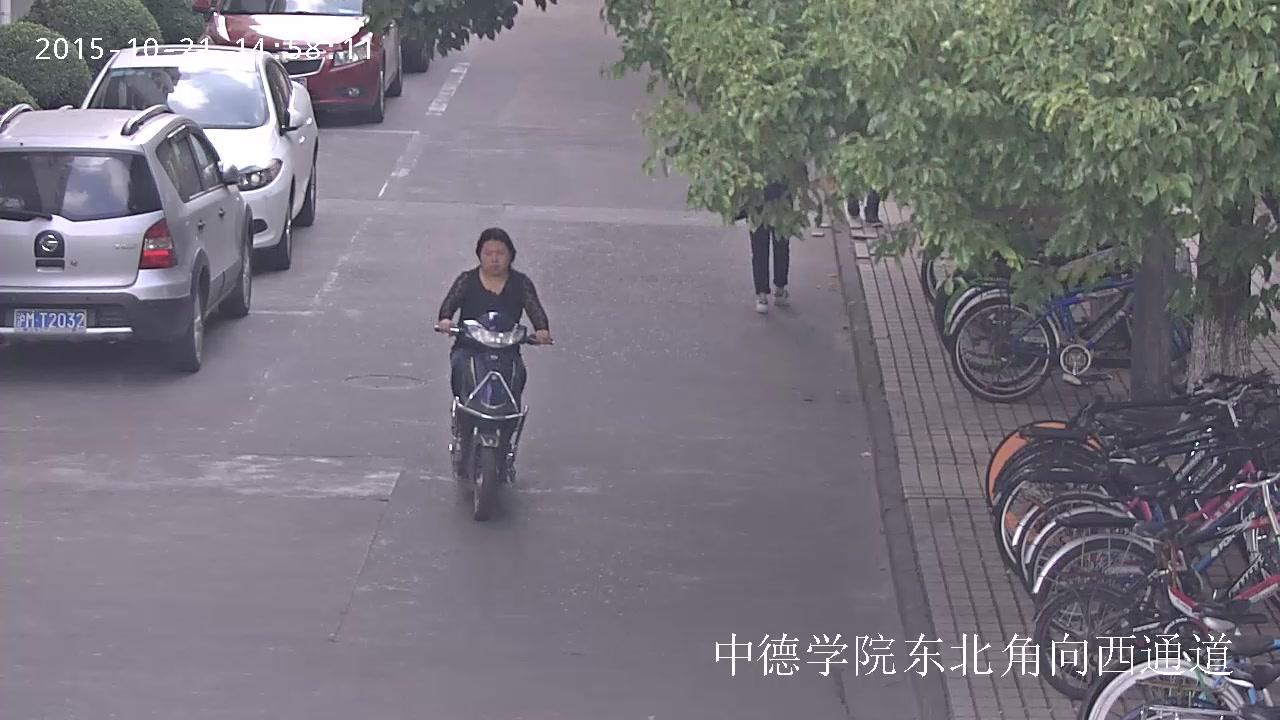face: (481, 240, 508, 275)
